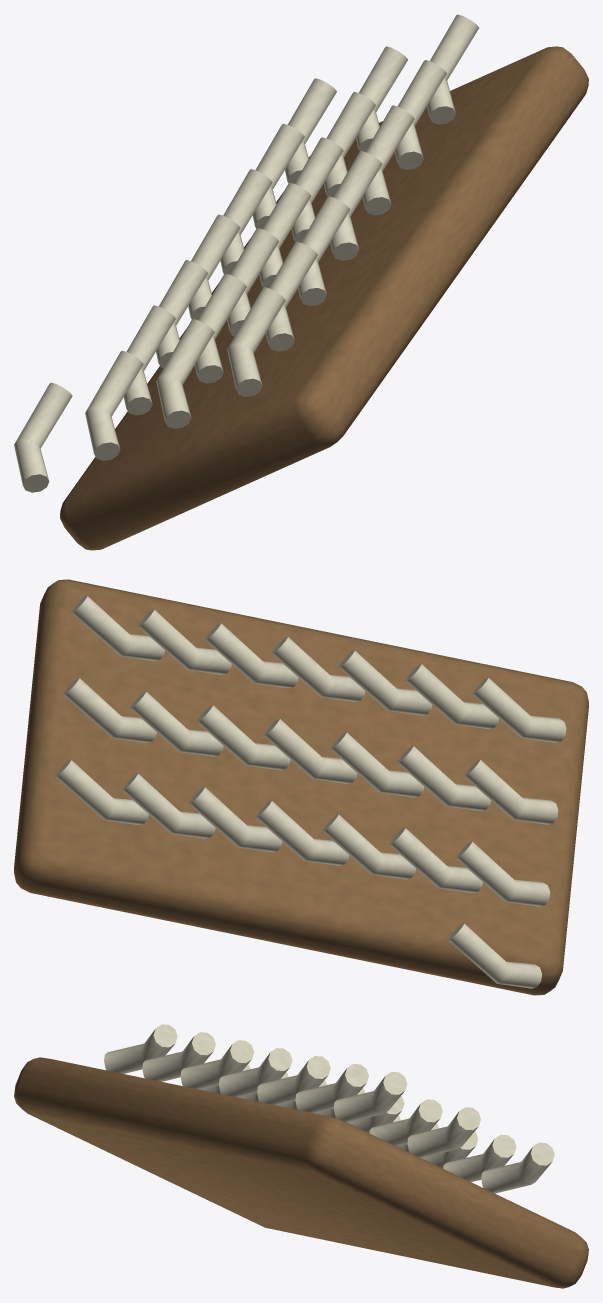
The picture shows the model from 3 angles, top to bottom: view 1: azimuth 30°, elevation 25°; view 2: azimuth 150°, elevation 25°; view 3: azimuth 270°, elevation 25°; orthographic projection. The views are drawn at different scales.
Parts seen in each view (by area): view 1: Shallow pulping tray; view 2: Shallow pulping tray; view 3: Shallow pulping tray.
Boxes of the visible parts, box(x1,y1,x2,y2) form: Shallow pulping tray: box(14, 14, 588, 550); Shallow pulping tray: box(14, 579, 588, 995); Shallow pulping tray: box(14, 1024, 588, 1288).
Bounding box in the file's own units: 1.09 × 0.7129 × 1.06.
Materials: 1 (1 with a texture image).
